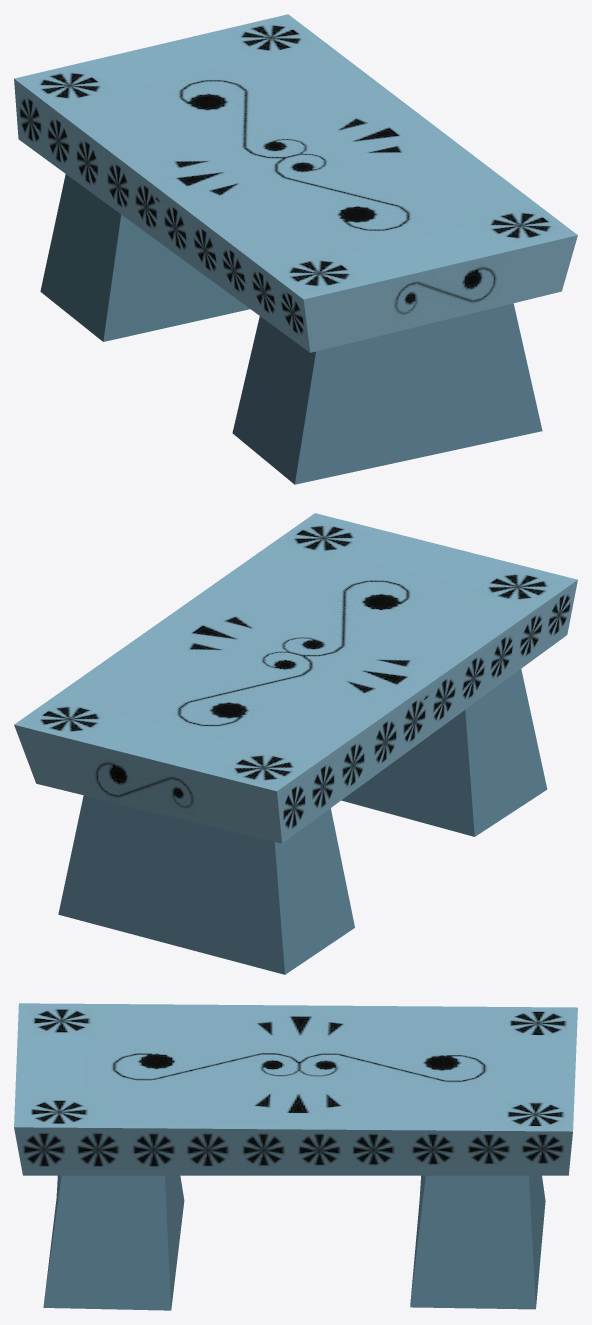
Rendered from SquareStool.fbx.
The picture shows the model from 3 angles, top to bottom: view 1: azimuth 30°, elevation 25°; view 2: azimuth 150°, elevation 25°; view 3: azimuth 270°, elevation 25°; orthographic projection. The views are drawn at different scales.
Visible parts, largest first — view 1: TODOS:Piazza:piazza1:pCube1; view 2: TODOS:Piazza:piazza1:pCube1; view 3: TODOS:Piazza:piazza1:pCube1.
Part boxes in pixels (left/top/right/bottom): TODOS:Piazza:piazza1:pCube1: left=14, top=14, right=577, bottom=484; TODOS:Piazza:piazza1:pCube1: left=14, top=513, right=577, bottom=974; TODOS:Piazza:piazza1:pCube1: left=14, top=1003, right=577, bottom=1310.
Size of the model in its own units: 5.05 by 3.48 by 9.39.
